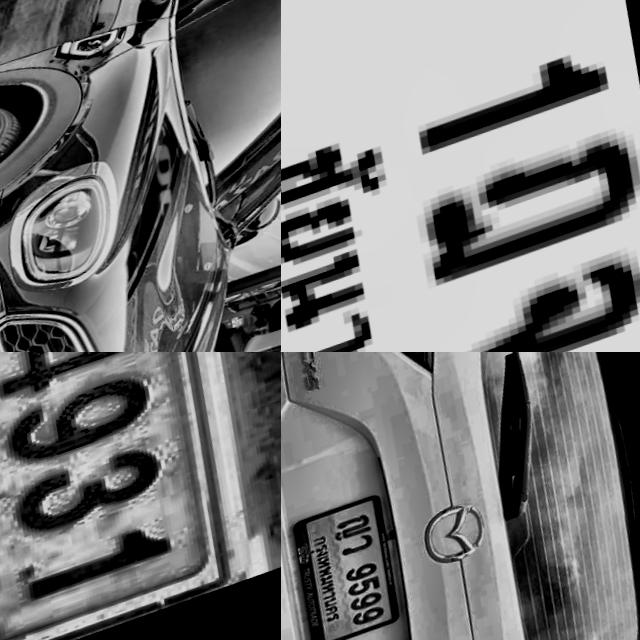license-plate: (281, 0, 640, 352), (0, 352, 281, 640), (283, 495, 422, 640)
